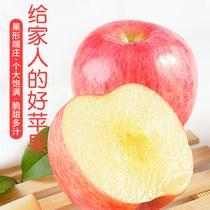apple: (50, 83, 192, 209), (72, 21, 200, 134)
